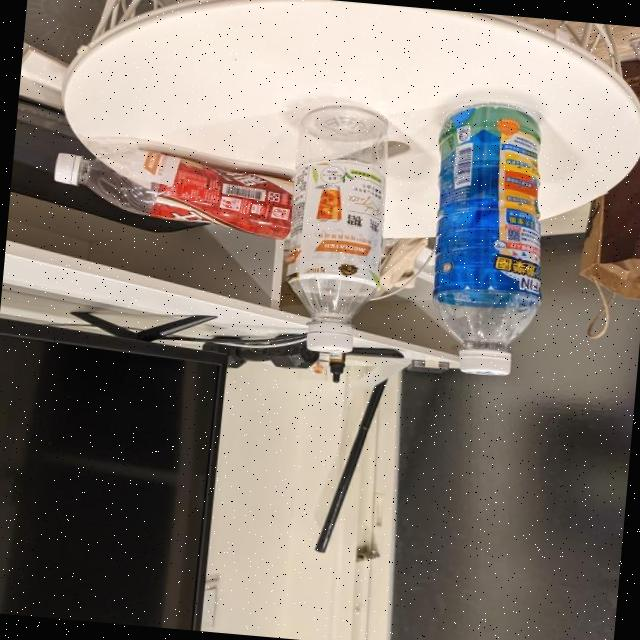bottle: (401, 98, 563, 390), (267, 88, 401, 366), (28, 138, 310, 232)
cap: (47, 149, 87, 194), (458, 352, 510, 377), (304, 330, 354, 354)
label: (418, 109, 552, 300), (135, 152, 303, 238), (282, 159, 387, 289)
